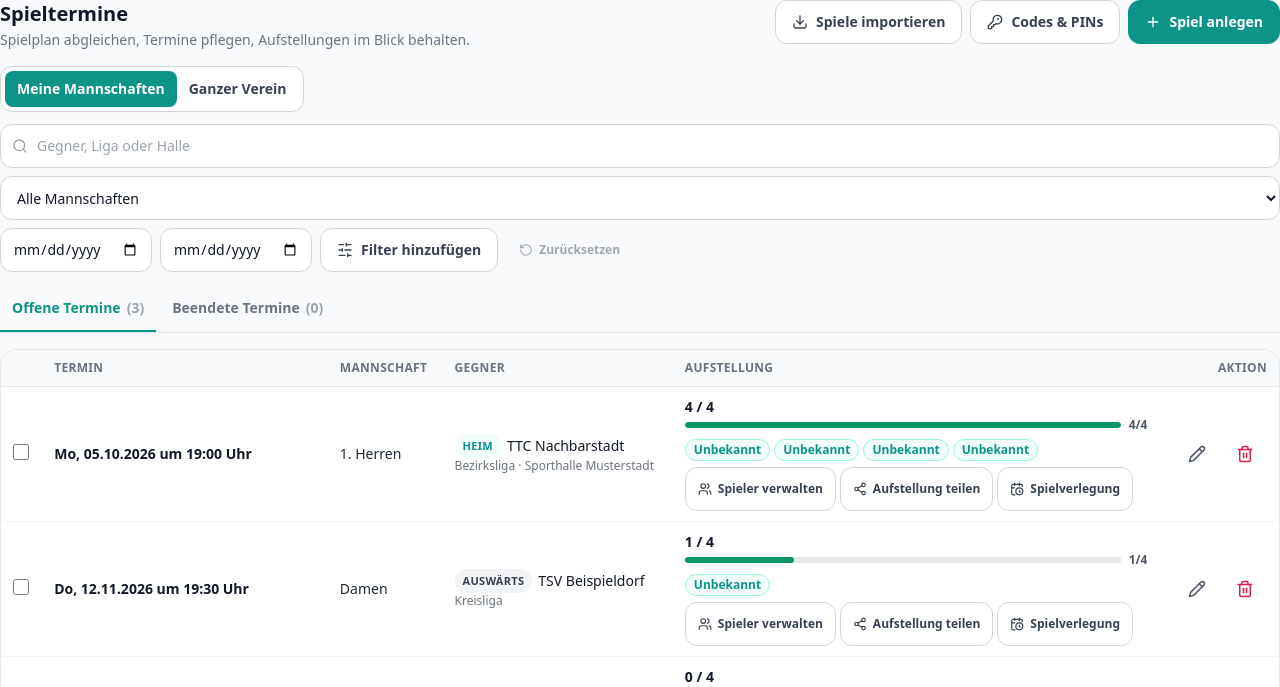
Test case: GamesPage › verlangt im Anlegen-Dialog eine Mannschaft und ein Datum
The image size is (1280, 687).
Click the button "Spiel anlegen" at (1204, 22), box [1128,0,1279,44]
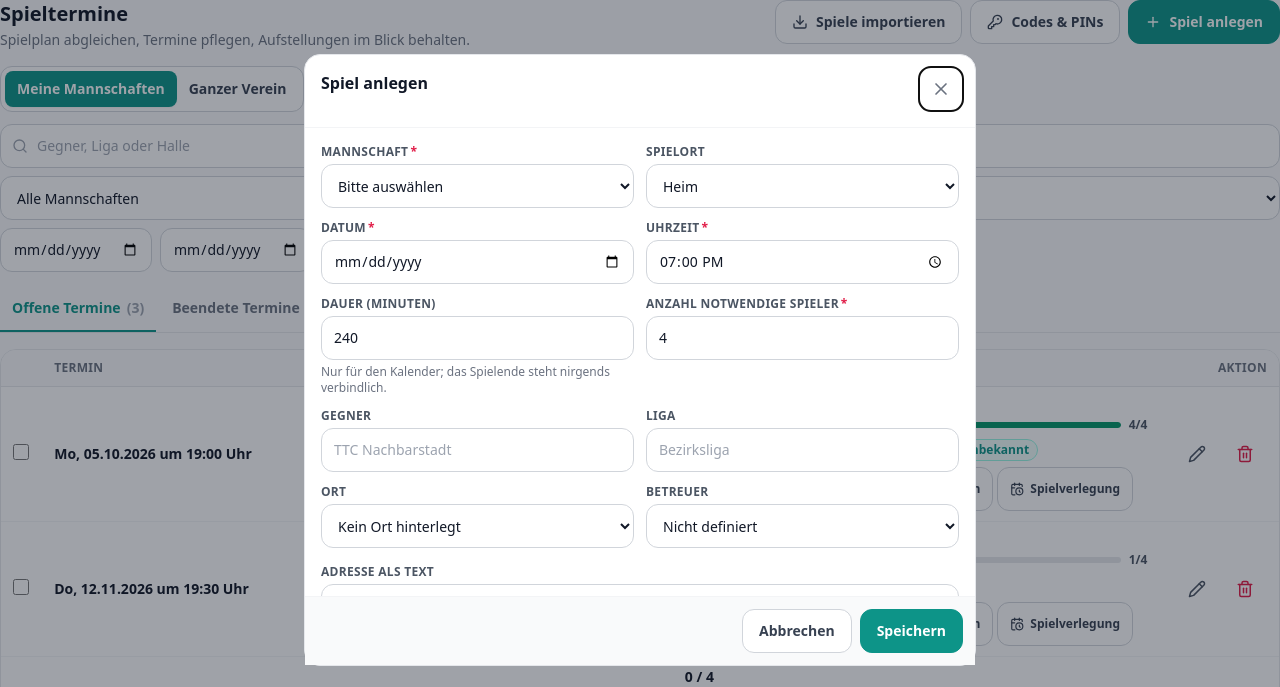
Click the button "Speichern" at (911, 631), box [860,609,963,653]
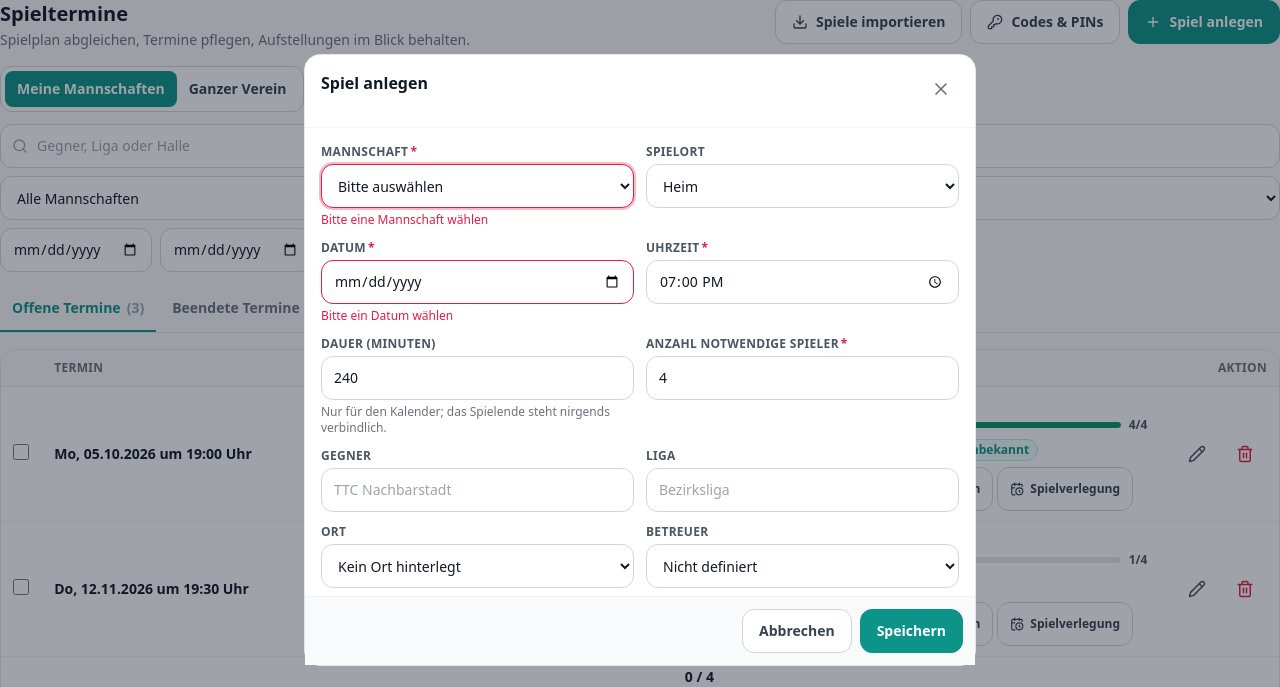
Now the text "Bitte eine Mannschaft wählen" is shown, box [321,211,488,228]
Now the text "Bitte ein Datum wählen" is shown, box [321,307,453,324]
